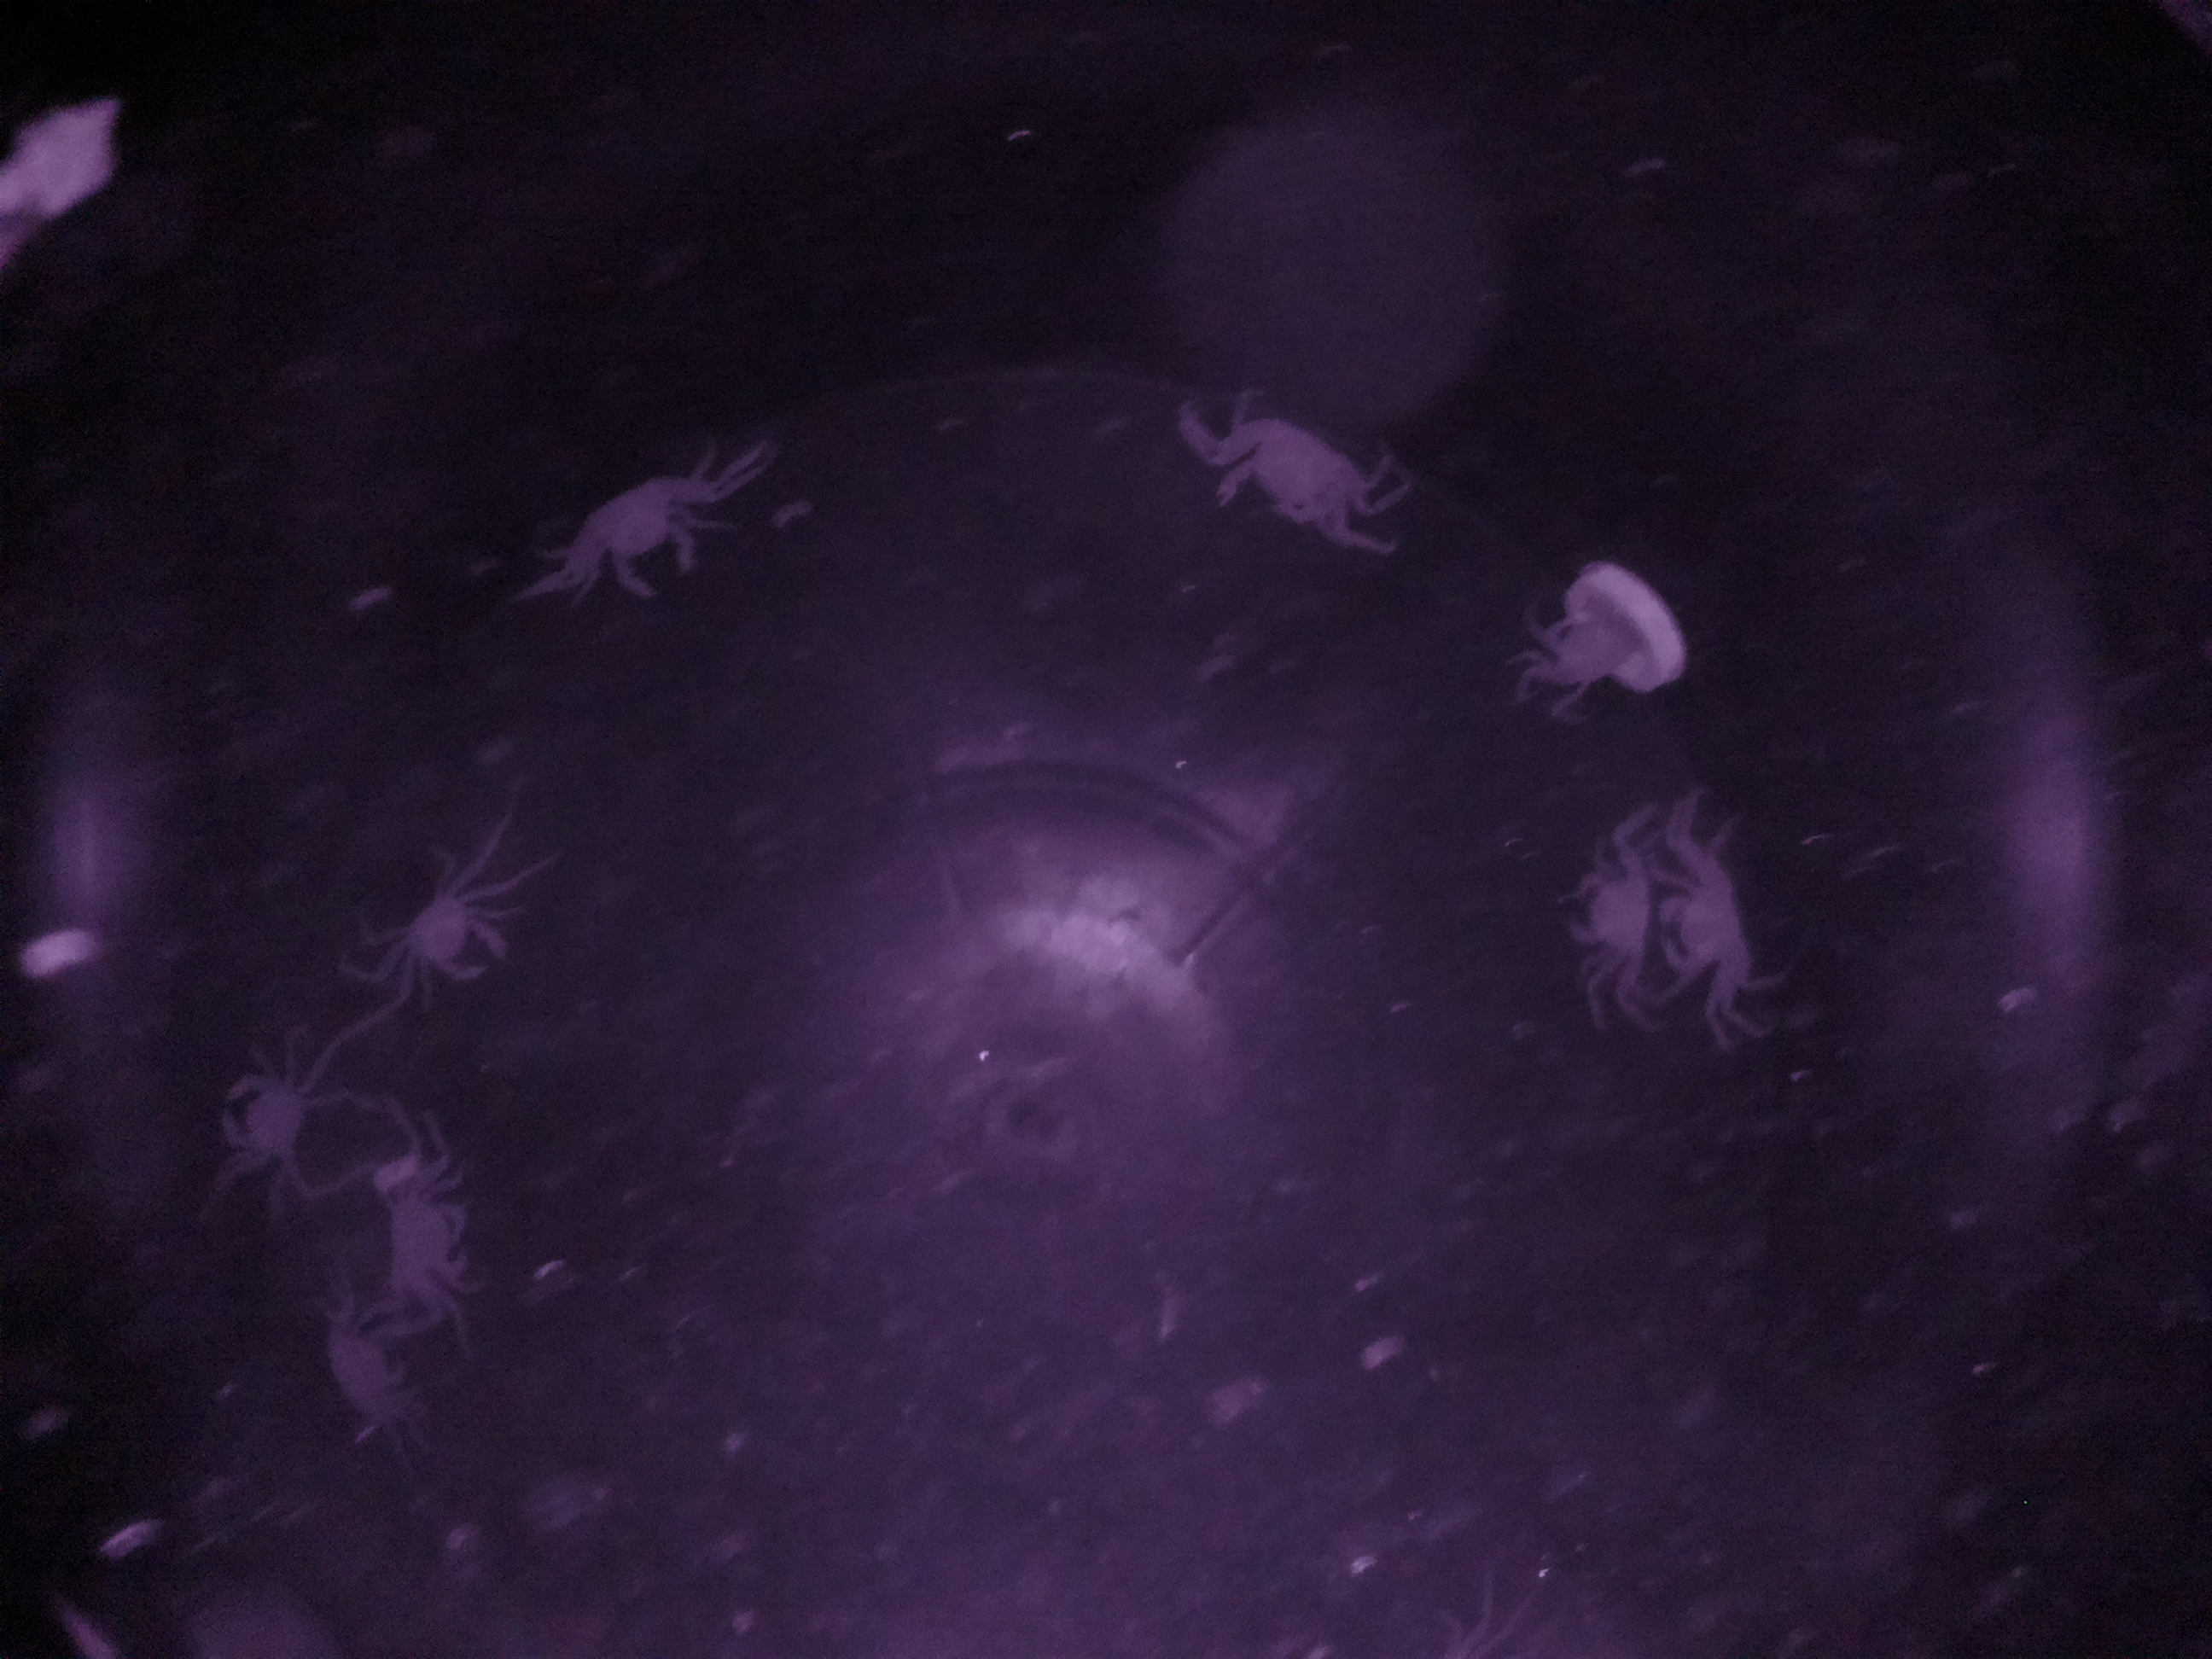Crab: (1172, 371, 1378, 577), (547, 451, 733, 622), (1658, 809, 1794, 1023), (366, 1138, 509, 1338), (366, 842, 524, 1011), (195, 1035, 354, 1202), (1538, 823, 1649, 1018)
